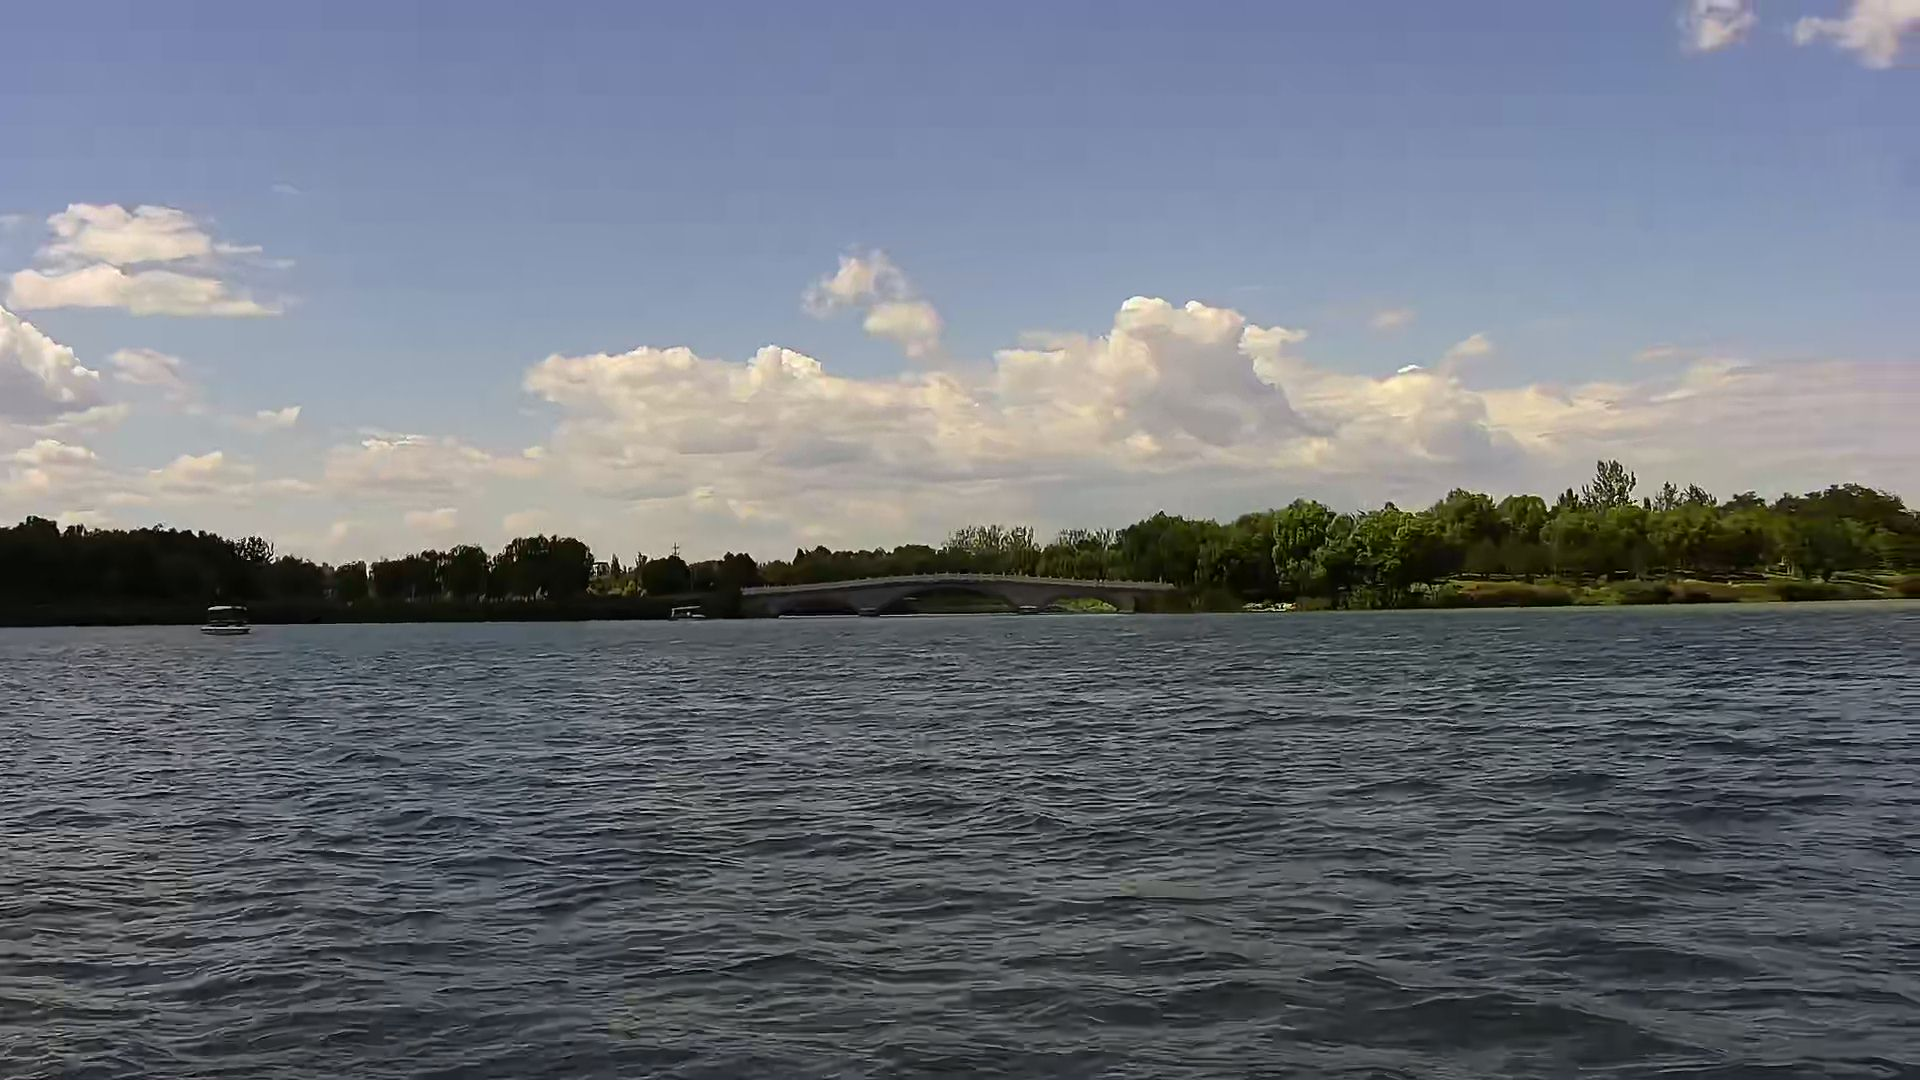boat: (198, 592, 262, 641)
bridge: (725, 564, 1178, 618)
